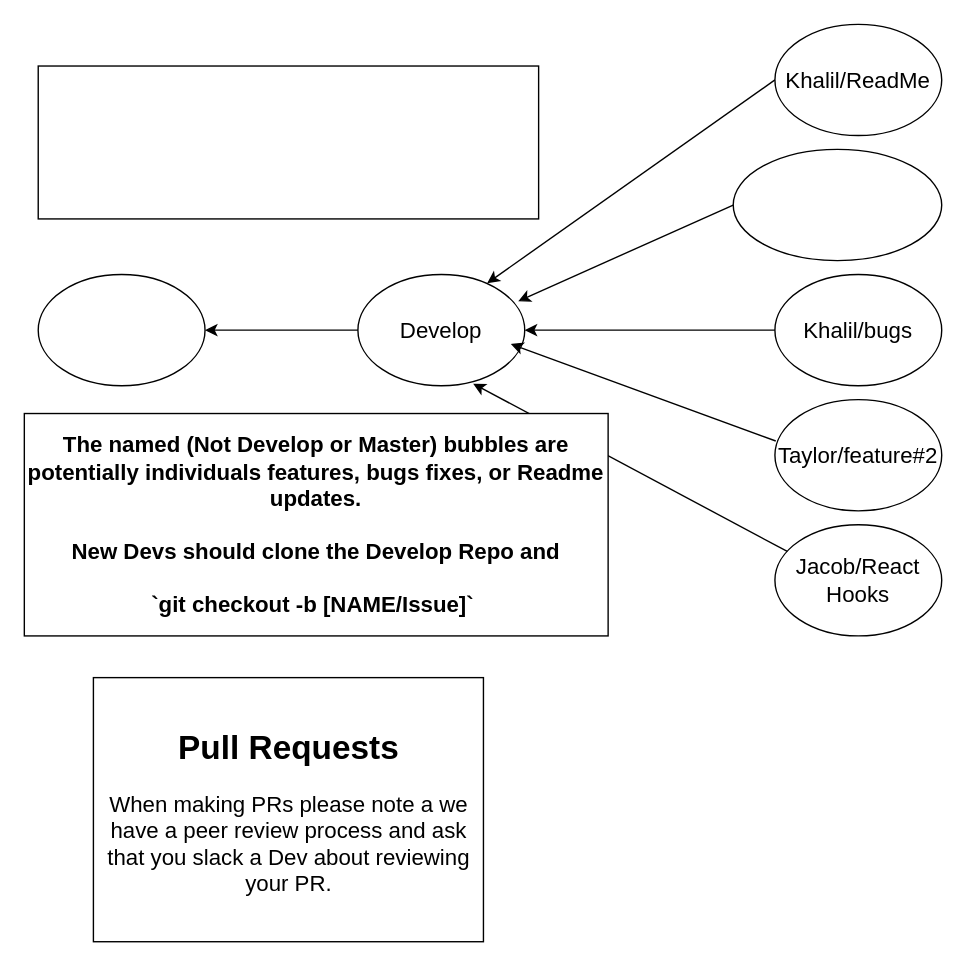
This 966x966 diagram has some shape labels left out. The centre of each missing label's shape, as x and y in pixels:
"Gabriel/DockerBug" belongs at pixel 837 204.
"Master" belongs at pixel 121 329.
"The directional lines are PRs (Pull Requests) made using Git and GitHub." belongs at pixel 288 142.
